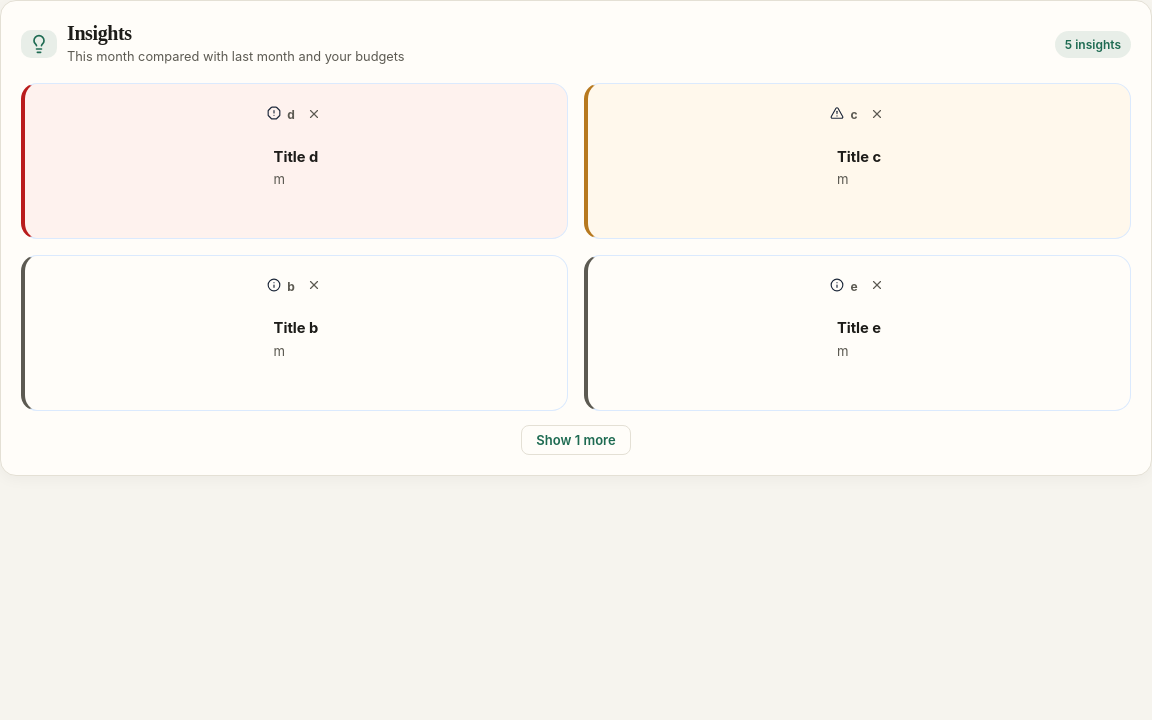
Test: ActionableInsights › shows the four most urgent insights and offers the rest
Check: the heading "Title d" is shown, box [274,149,318,166]
Check: the text "Title a" is not shown
What coordinates should you click on to do the following:
click the button "Show 1 more"
I would click on:
 (576, 440)
Its box is [521,425,631,455].
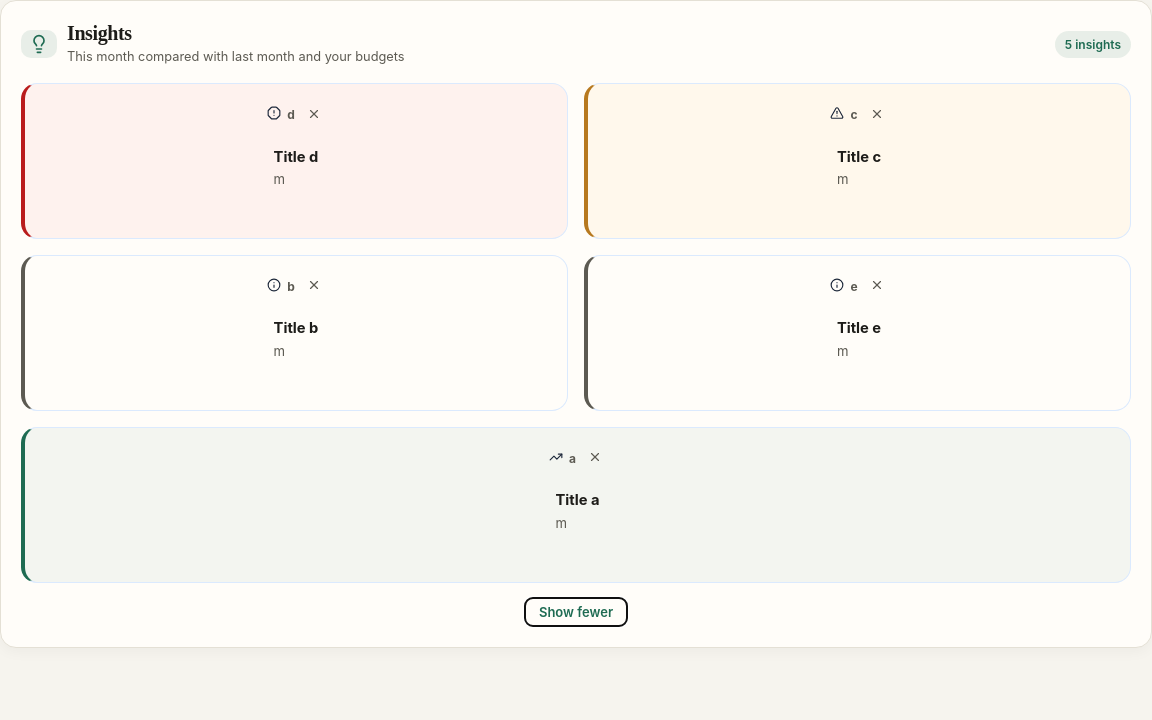
Check: the heading "Title a" is shown, box [556,492,600,510]
